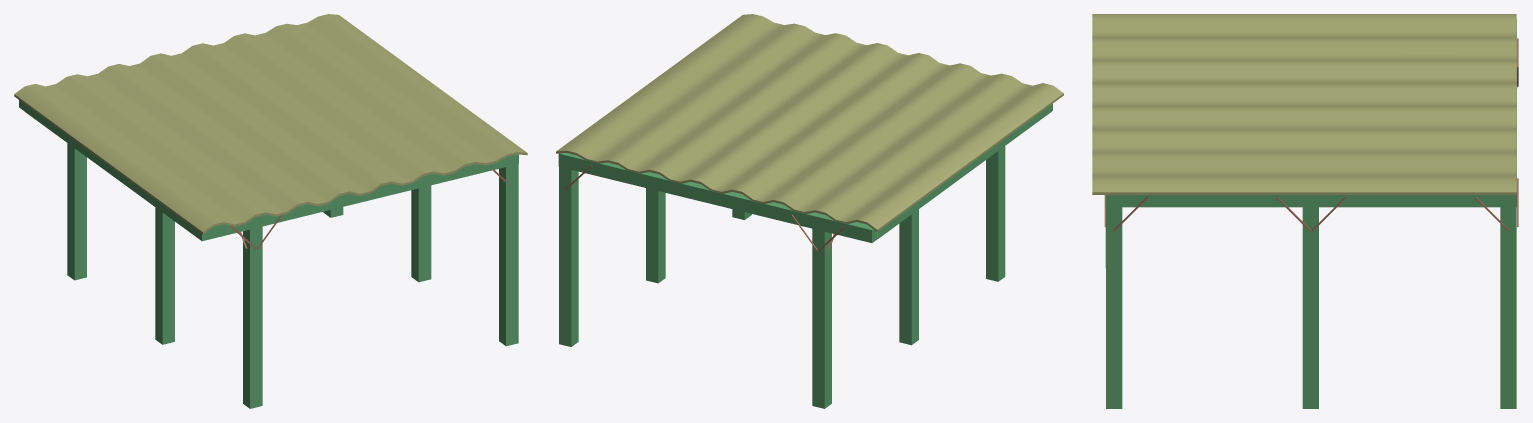
Rendered from sotrage_outdoor_middle.fbx.
3 views of the same model, side by side, from view 1: azimuth 30°, elevation 25°; view 2: azimuth 150°, elevation 25°; view 3: azimuth 270°, elevation 25° (orthographic). The views are drawn at different scales.
Visible parts, largest first — view 1: pCube24; view 2: pCube24; view 3: pCube24.
Part boxes in pixels (bbox=[...]): pCube24: bbox=[14, 14, 527, 408]; pCube24: bbox=[556, 14, 1063, 408]; pCube24: bbox=[1092, 14, 1518, 408].
Bounding box in the file's own units: 634 × 372 × 641.
